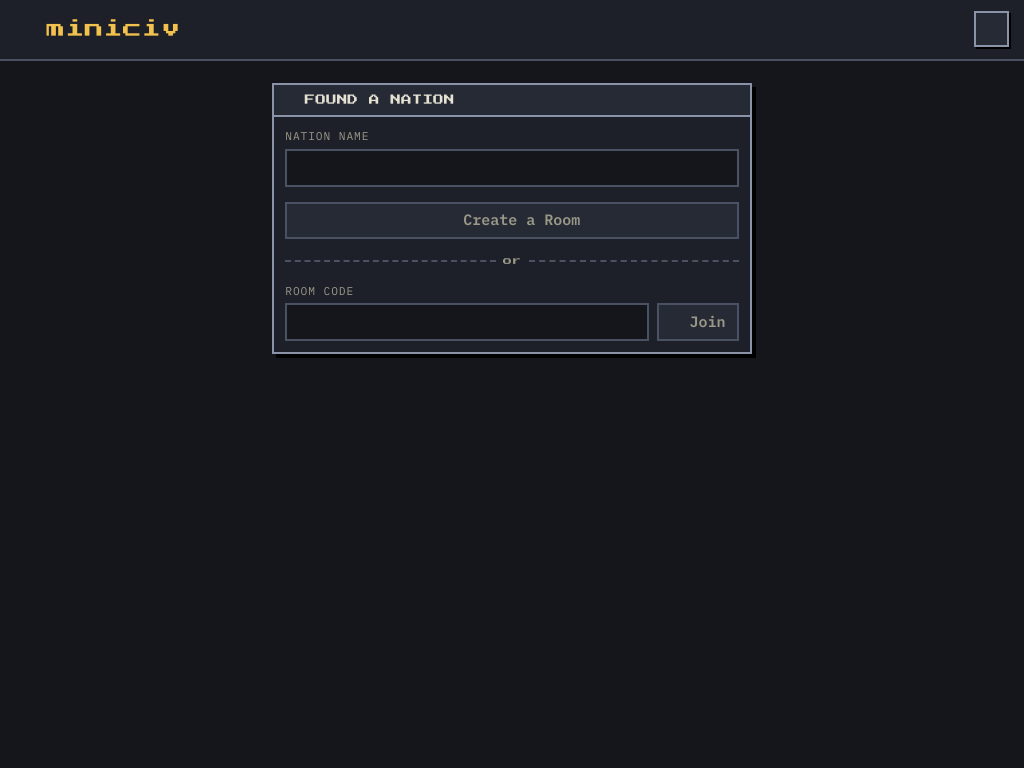
it: Reduced motion › starts on when the operating system asks for reduced motion, and the screen has no animation
The width and height of the screenshot is (1024, 768).
Click the button named "Settings". click: x=991, y=29
box: [974,11,1009,47]
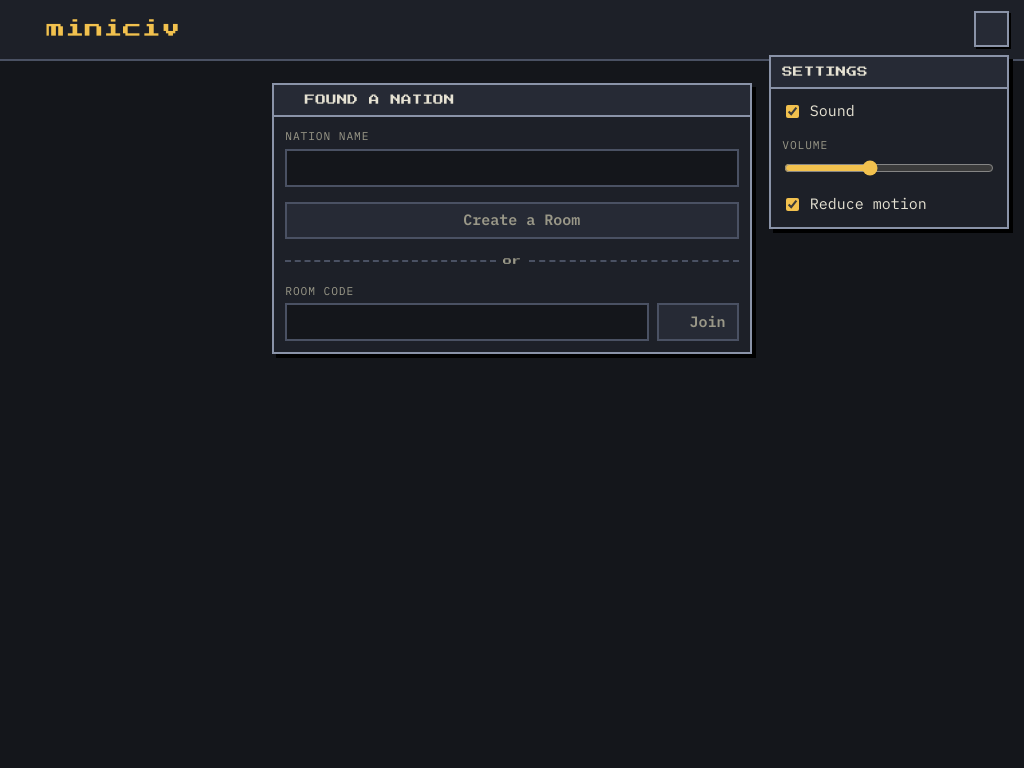
Expected: the checkbox labelled "Reduce motion" is checked, [786,198,799,211]
